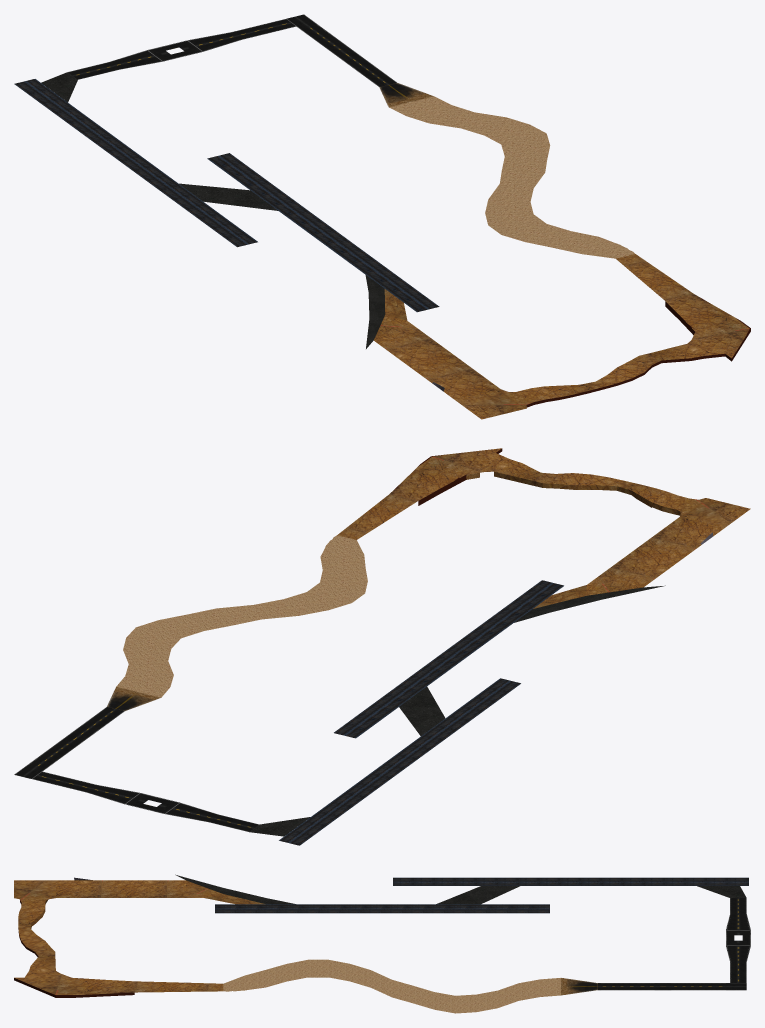
Rendered from trackv2ground.obj.
The picture shows the model from 3 angles, top to bottom: view 1: azimuth 30°, elevation 25°; view 2: azimuth 150°, elevation 25°; view 3: azimuth 270°, elevation 25°; orthographic projection. The views are drawn at different scales.
Parts seen in each view (by area): view 1: Grid.001; view 2: Grid.001; view 3: Grid.001.
Boxes of the visible parts, x1,y1,x2,y2 form: Grid.001: (14, 14, 750, 419); Grid.001: (14, 448, 750, 845); Grid.001: (14, 874, 750, 1013).
Bounding box in the file's own units: 786 × 20.22 × 1760.
Materials: 12 (9 with a texture image).
